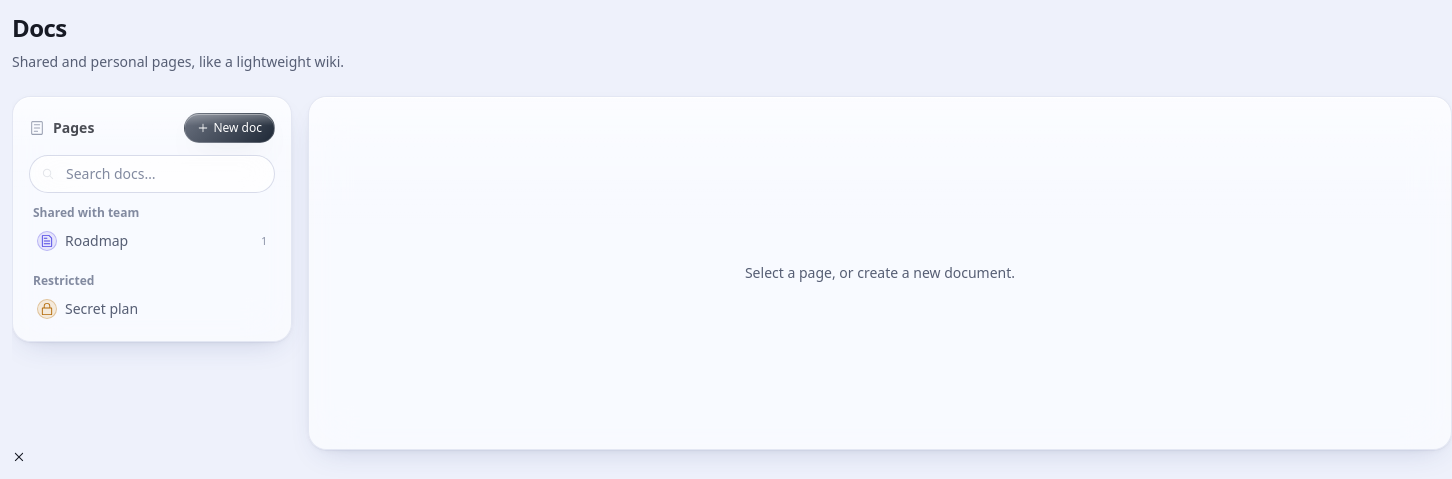
Test: DocsView › shows read-only docs without an editor
Click the button with aria-label "Open document Secret plan" at [152, 309], box [29, 293, 275, 325]
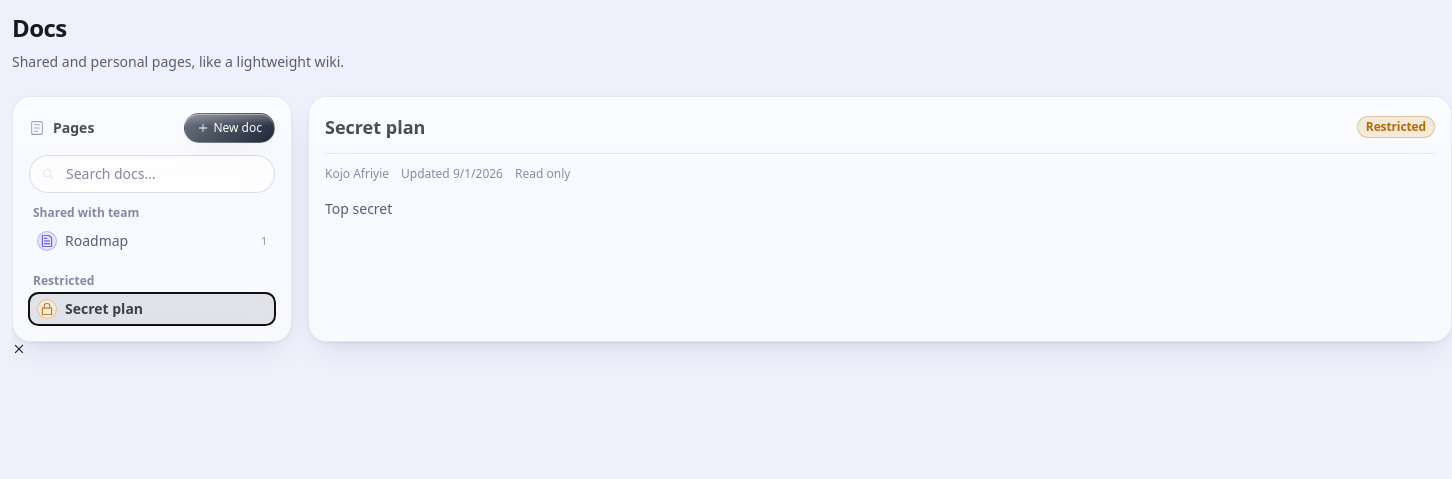
Check: the text "Top secret" is shown, box [325, 199, 392, 218]
Check: the text "Read only" is shown, box [515, 166, 570, 182]
